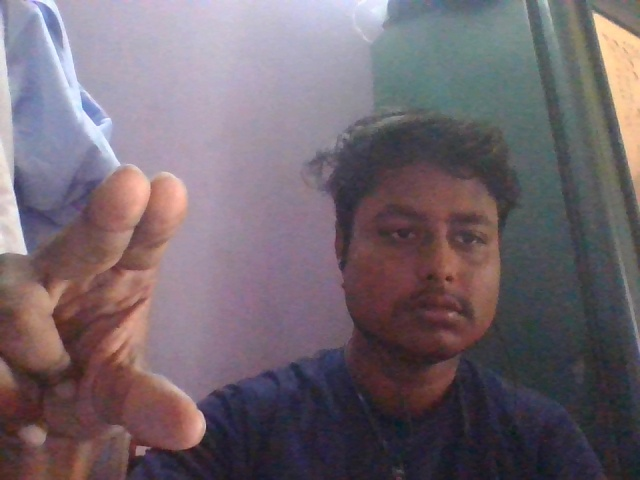no: (1, 157, 213, 480)
